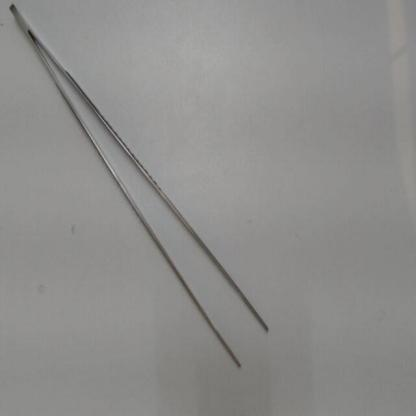DeBakey Dissector: (2, 2, 288, 380)
